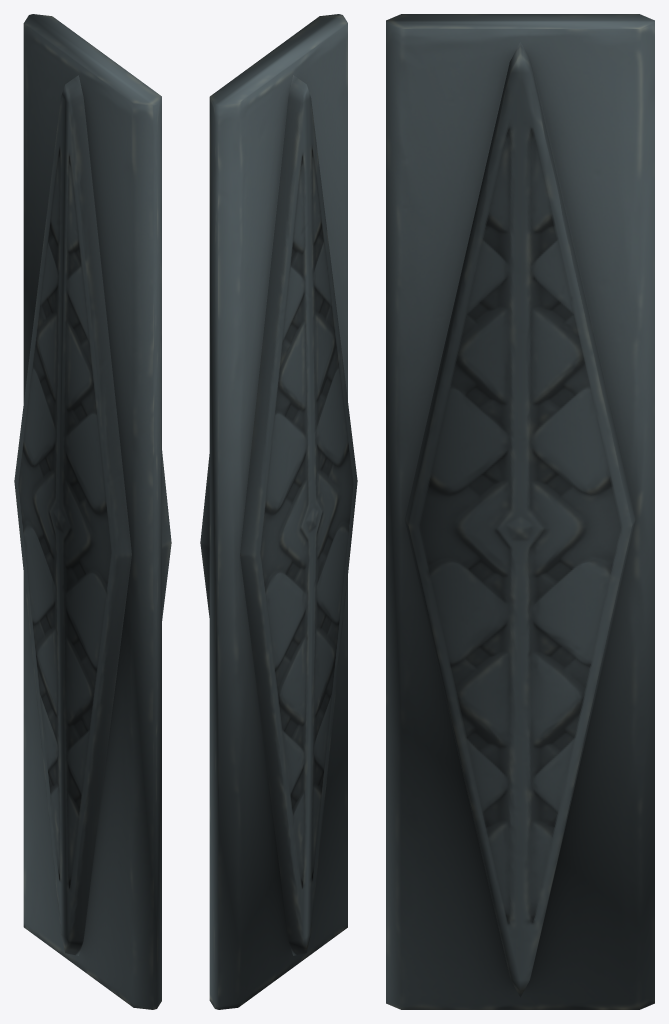
The model's file is ProjectRG_Environment_RuinsWall_Var0.fbx.
3 views of the same model, side by side, from view 1: azimuth 30°, elevation 25°; view 2: azimuth 150°, elevation 25°; view 3: azimuth 270°, elevation 25° (orthographic). The views are drawn at different scales.
Parts seen in each view (by area): view 1: ProjectRG_Environment_RuinsWall_Var0; view 2: ProjectRG_Environment_RuinsWall_Var0; view 3: ProjectRG_Environment_RuinsWall_Var0.
Boxes of the visible parts, <box> form: ProjectRG_Environment_RuinsWall_Var0: <box>14,14,171,1009</box>; ProjectRG_Environment_RuinsWall_Var0: <box>200,14,357,1009</box>; ProjectRG_Environment_RuinsWall_Var0: <box>386,14,654,1009</box>.
Bounding box in the file's own units: 147 × 1860 × 462.
